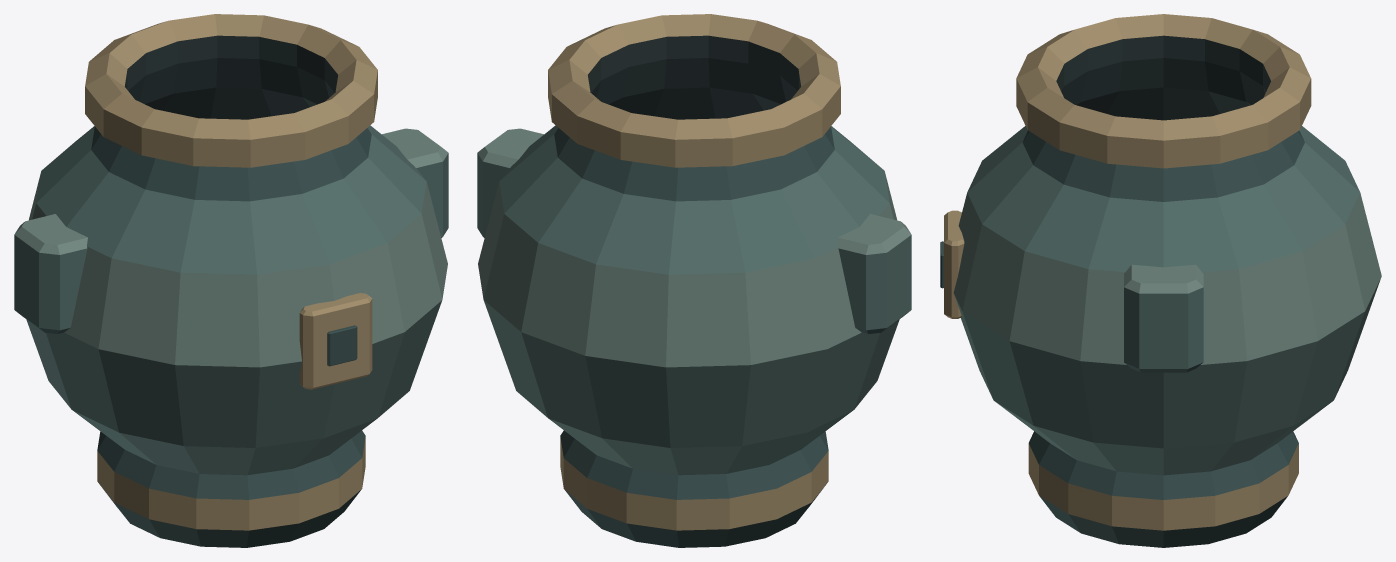
The model's file is urn-jade.glb.
3 views of the same model, side by side, from view 1: azimuth 30°, elevation 25°; view 2: azimuth 150°, elevation 25°; view 3: azimuth 270°, elevation 25° (orthographic).
Visible parts, largest first — view 1: urn-jade; view 2: urn-jade; view 3: urn-jade.
Part boxes in pixels (left/top/right/bottom): urn-jade: left=14, top=14, right=448, bottom=547; urn-jade: left=477, top=14, right=911, bottom=547; urn-jade: left=940, top=14, right=1381, bottom=547.
Bounding box in the file's own units: 0.769 × 0.775 × 0.719.
